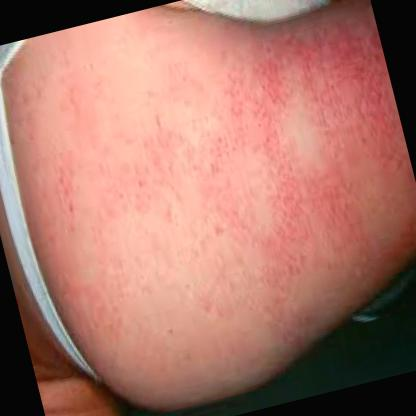Chicken Skin: (225, 16, 416, 277)
